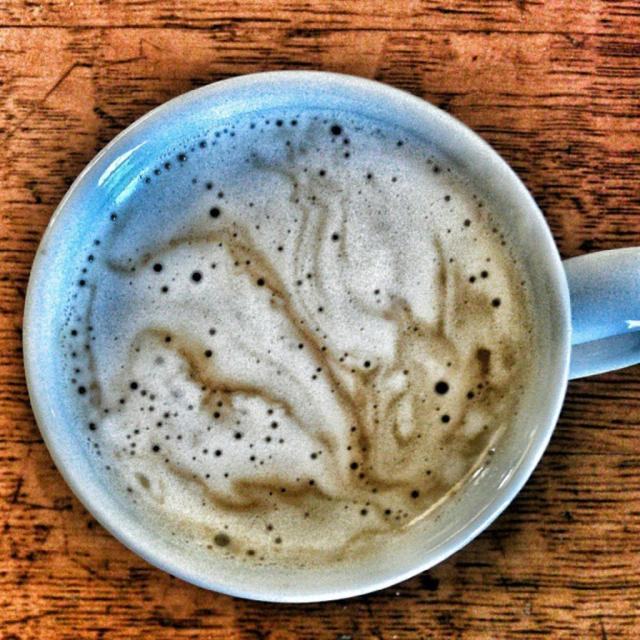Coffee: (61, 111, 552, 569)
